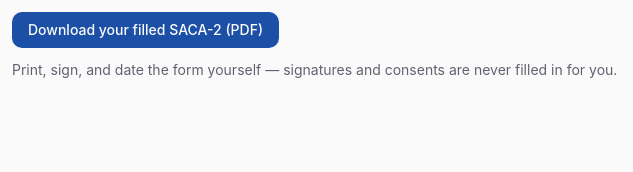
Saca2Download › explains the rate limit on 429
Click the button "Download your filled SACA-2 (PDF)" at x=146, y=30, box top-left (12, 12), bottom-right (279, 48)
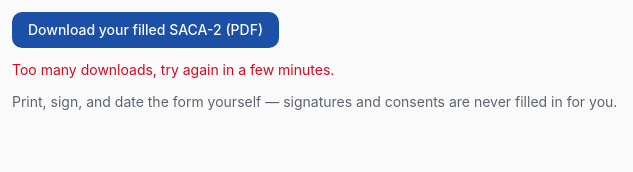
Expected: the message reads "Too many downloads, try again in a few minutes.", top-left (12, 61), bottom-right (334, 78)
